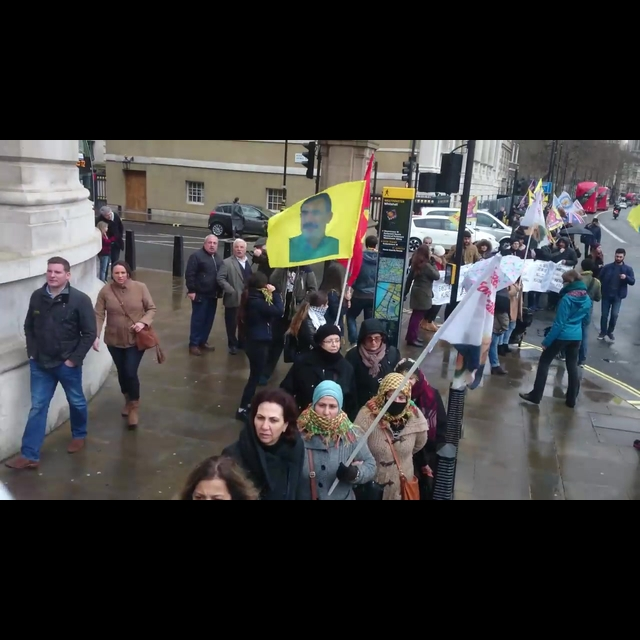APO: (292, 192, 336, 250)
